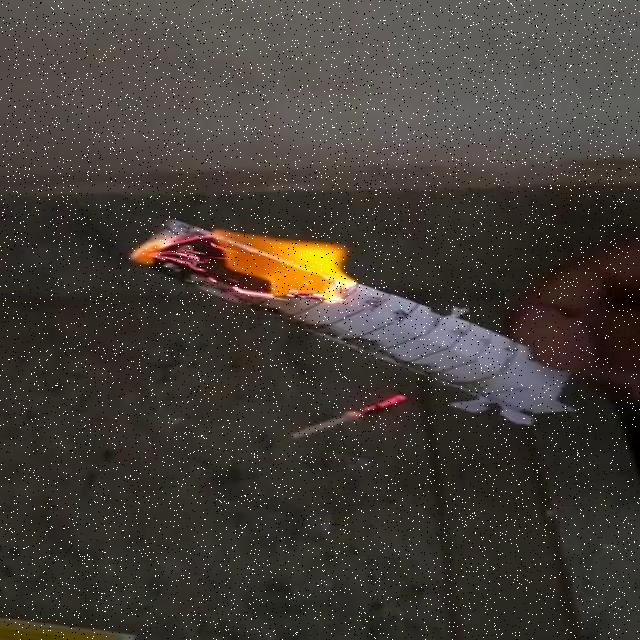fire: (138, 202, 394, 322)
